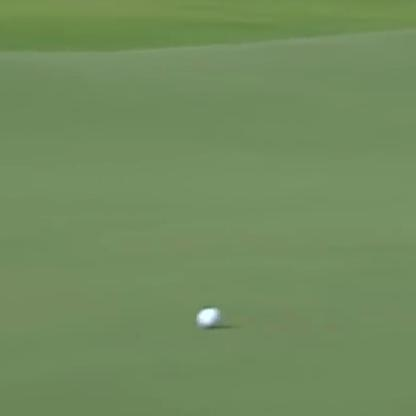golfball: (194, 305, 222, 329)
